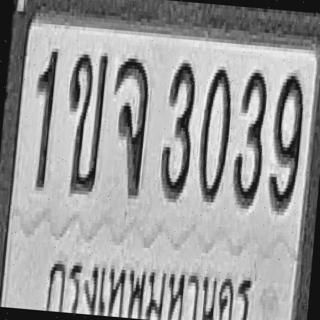A02: (60, 48, 108, 194)
A08: (105, 52, 152, 194)
N00: (195, 64, 235, 202)
N01: (28, 46, 58, 190)
N03: (158, 57, 198, 198), (231, 68, 270, 206)
N09: (266, 70, 306, 211)
P04: (40, 242, 256, 320)
